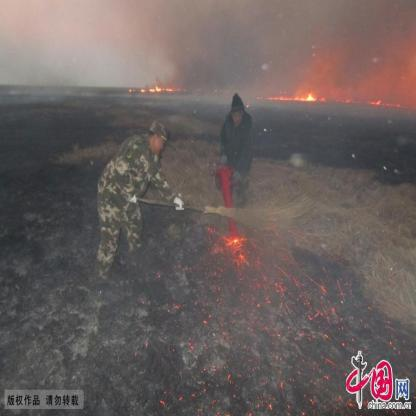fire: (266, 83, 324, 100), (216, 221, 244, 251), (137, 82, 186, 98), (369, 94, 384, 105)
other: (217, 164, 240, 238)
